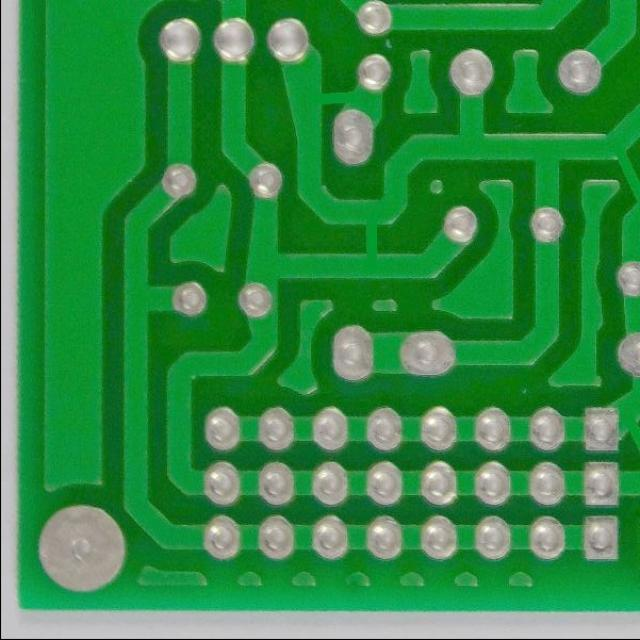Short_Circuit: (341, 194, 400, 286), (282, 77, 387, 121), (604, 134, 640, 226)
